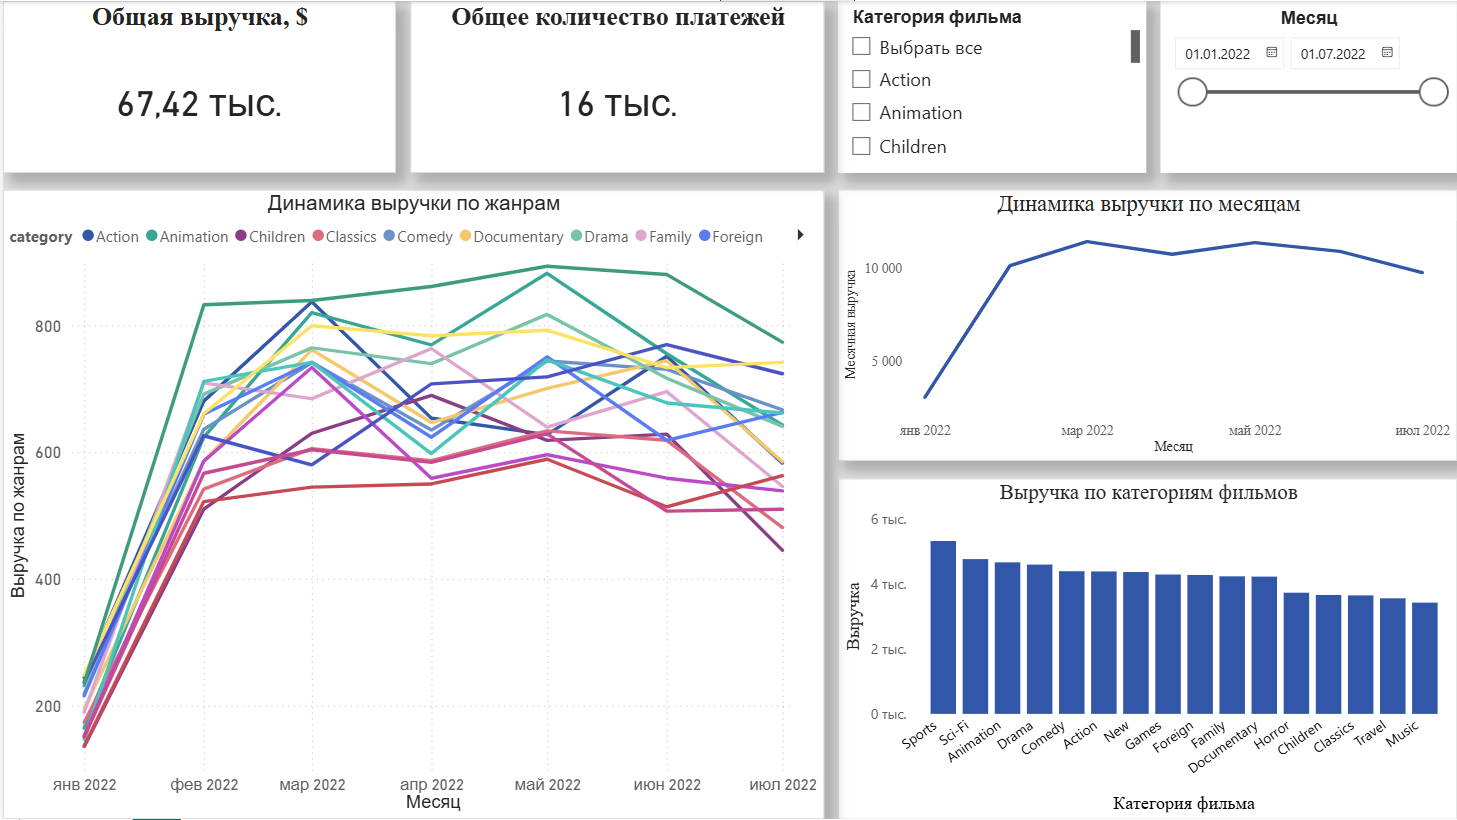

This screenshot's page, from the dashboard's own definition file:
{"tool":"powerbi","page":{"name":"Выручка","canvas":[1280,720],"ordinal":0},"visuals":[{"type":"lineChart","title":"Динамика выручки по месяцам","fields":{"Category":["revenue_by_month.month"],"Y":["Sum(revenue_by_month.revenue)"]},"box":[734.9,166.3,545.4,238.4],"z":0},{"type":"card","title":"Общая выручка, $","fields":{"Values":["Sum(revenue_by_month.revenue)"]},"box":[0,0,345.3,151.2],"z":1000},{"type":"clusteredColumnChart","title":"Выручка по категориям фильмов","fields":{"Category":["revenue_by_category.category"],"Y":["Sum(revenue_by_category.revenue)"]},"box":[734.9,419.8,545.4,300],"z":2000},{"type":"lineChart","title":"Динамика выручки по жанрам","fields":{"Category":["revenue_by_genre_per_month.month"],"Y":["Sum(revenue_by_genre_per_month.monthly_revenue)"],"Series":["revenue_by_genre_per_month.category"]},"box":[0,166.3,722.1,553.5],"z":3000},{"type":"slicer","fields":{"Values":["revenue_by_category.category"]},"box":[734.9,0,270.9,151.2],"z":4000},{"type":"slicer","title":"Месяц","fields":{"Values":["Календарь.Date"]},"box":[1018.6,0,261.6,151.2],"z":5000},{"type":"card","title":"Общее количество платежей","fields":{"Values":["Sum(revenue_by_month_per_store.payment_count)"]},"box":[358.1,0,364,151.2],"z":6000}]}

Visuals, with their boxes in screenshot pixels (x1, y1, x2, y2), scaled from the page's 1280x720 canvas onto the 1457x820 screenshot:
"Динамика выручки по месяцам" lineChart: 837, 189, 1456, 461
"Общая выручка, $" card: 0, 0, 393, 172
"Выручка по категориям фильмов" clusteredColumnChart: 837, 478, 1456, 819
"Динамика выручки по жанрам" lineChart: 0, 189, 822, 819
slicer - revenue_by_category.category: 837, 0, 1145, 172
"Месяц" slicer: 1159, 0, 1456, 172
"Общее количество платежей" card: 408, 0, 822, 172
